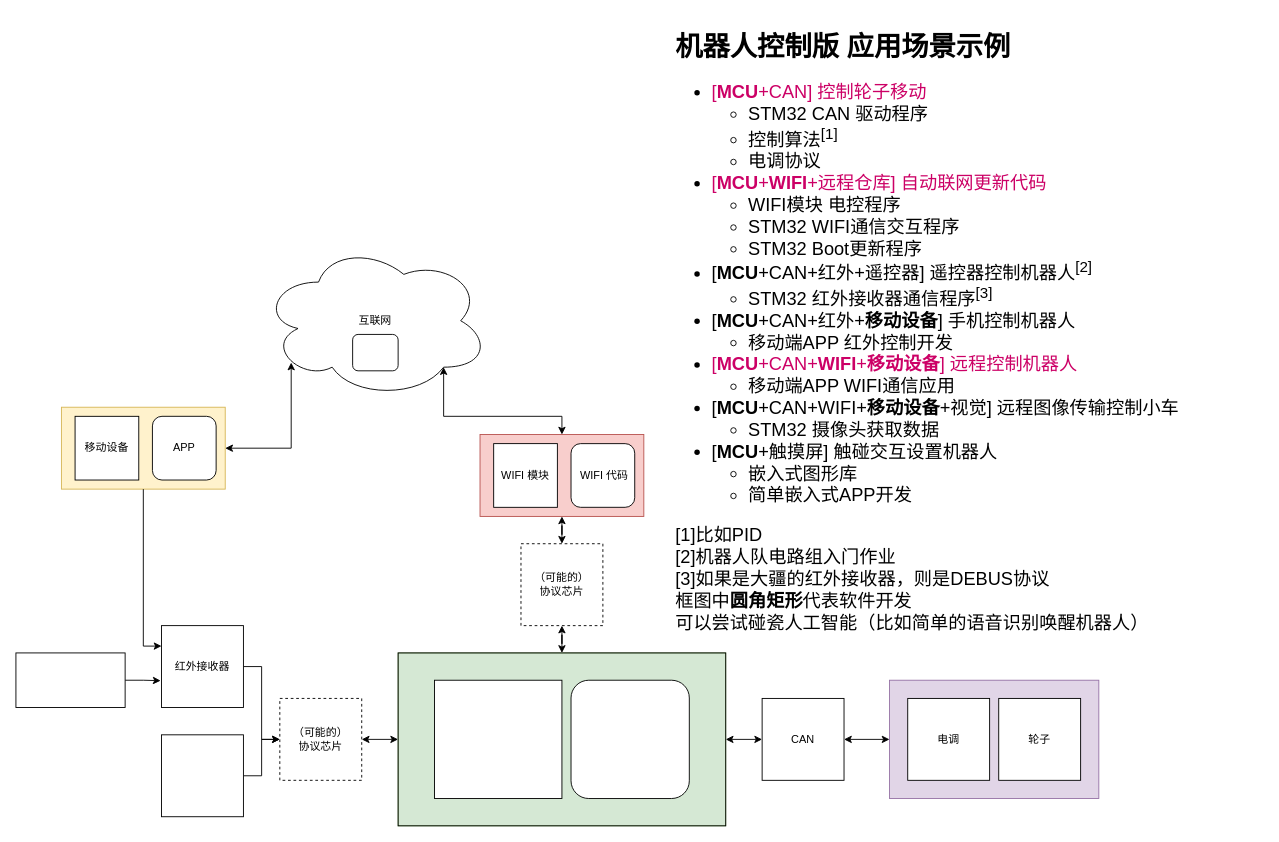
Some shapes in this 1279 by 842 pixel diagram are drawn without their labels. The centre of each missing label's shape, as x and y in pixels:
"MCU" goes at [498,739].
"STM32代码" goes at [629,739].
"云端仓库" goes at [375,352].
"视觉、显示屏 等外设……" goes at [202,775].
"遥控器" goes at [70,680].
